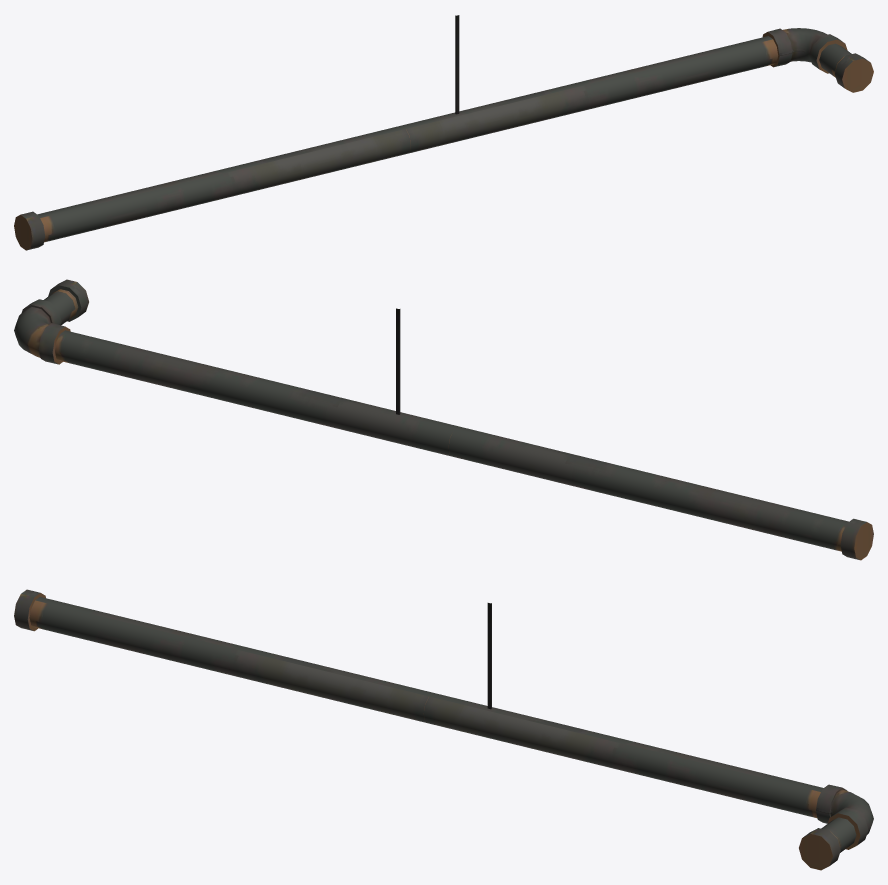
3 renders of one model, top to bottom at view 1: azimuth 30°, elevation 25°; view 2: azimuth 150°, elevation 25°; view 3: azimuth 330°, elevation 25°, orthographic. The views are drawn at different scales.
Parts seen in each view (by area): view 1: body0_model0_lod0_mesh0; view 2: body0_model0_lod0_mesh0; view 3: body0_model0_lod0_mesh0.
Part boxes in pixels (x1,y1,x2,y2): body0_model0_lod0_mesh0: [14, 15, 873, 250]; body0_model0_lod0_mesh0: [14, 279, 873, 560]; body0_model0_lod0_mesh0: [14, 589, 873, 870].
Size of the model in its own units: 126 by 19.02 by 15.6.
1 material, 1 textured.
